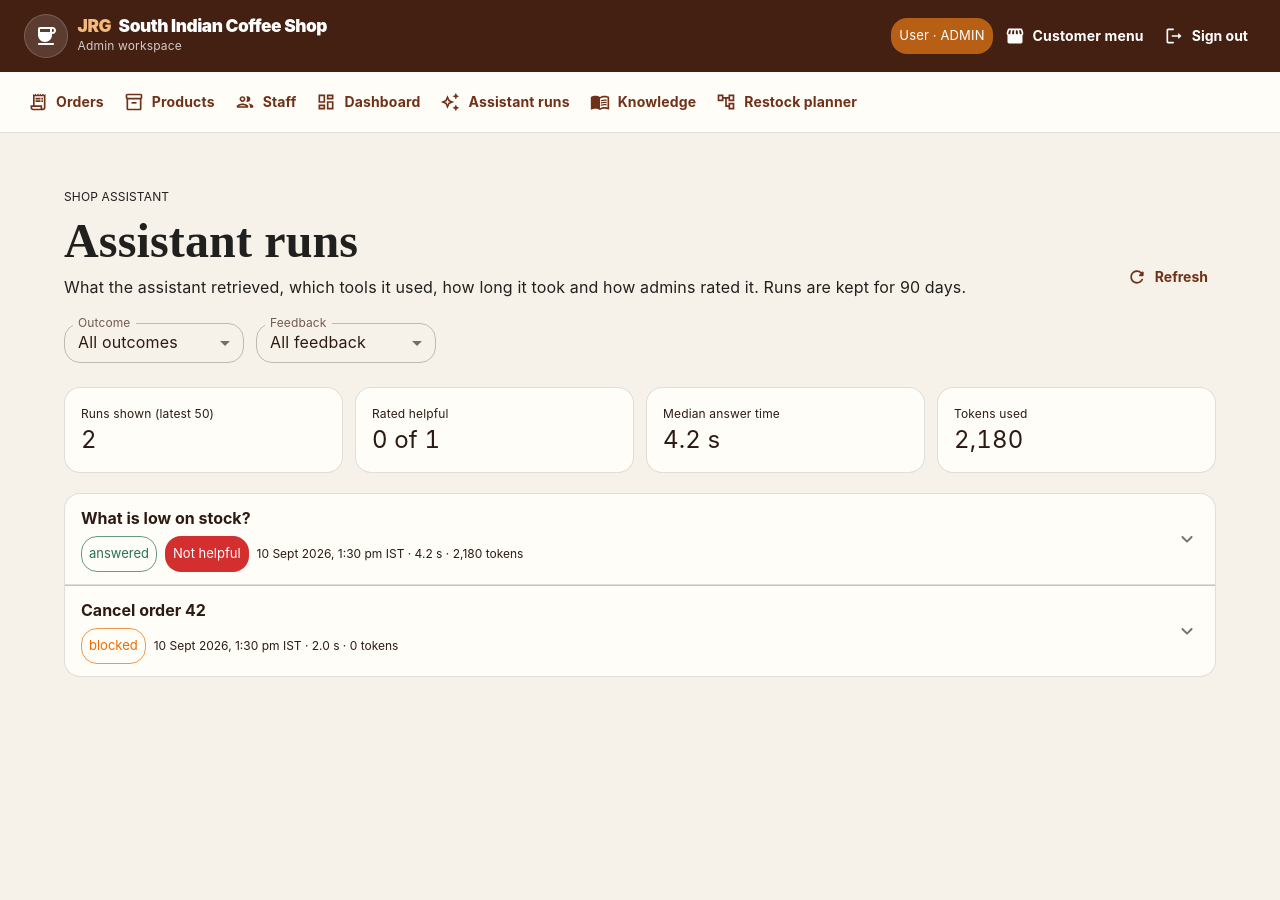
admin assistant run log › filters by feedback on the server
Expected: the text "Cancel order 42" is shown, x1=81 y1=600 x2=206 y2=620
Click the dropdown labelled "feedback": (318, 342) x1=270 y1=332 x2=366 y2=352
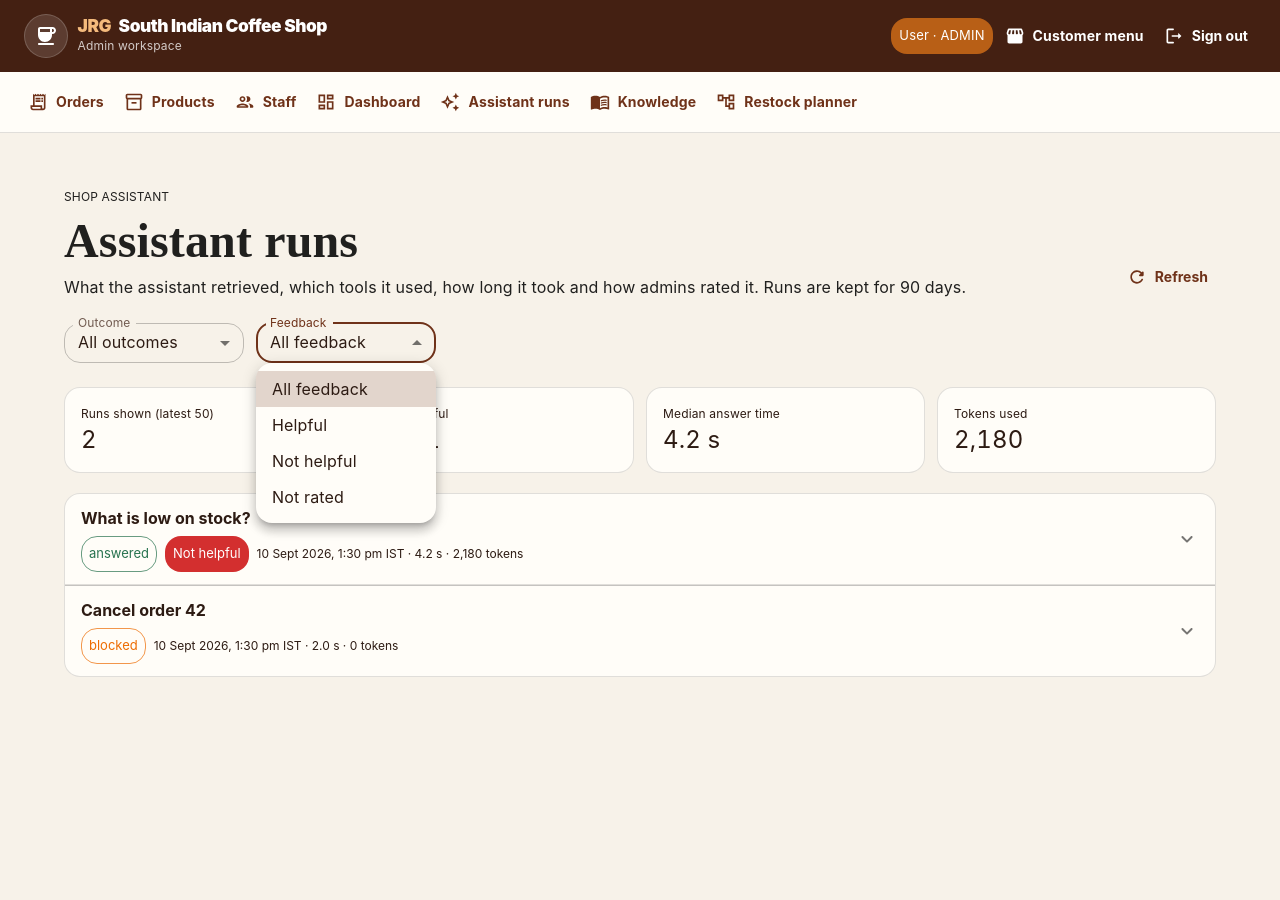
Click the option "Not helpful": (314, 461) x1=272 y1=451 x2=357 y2=471
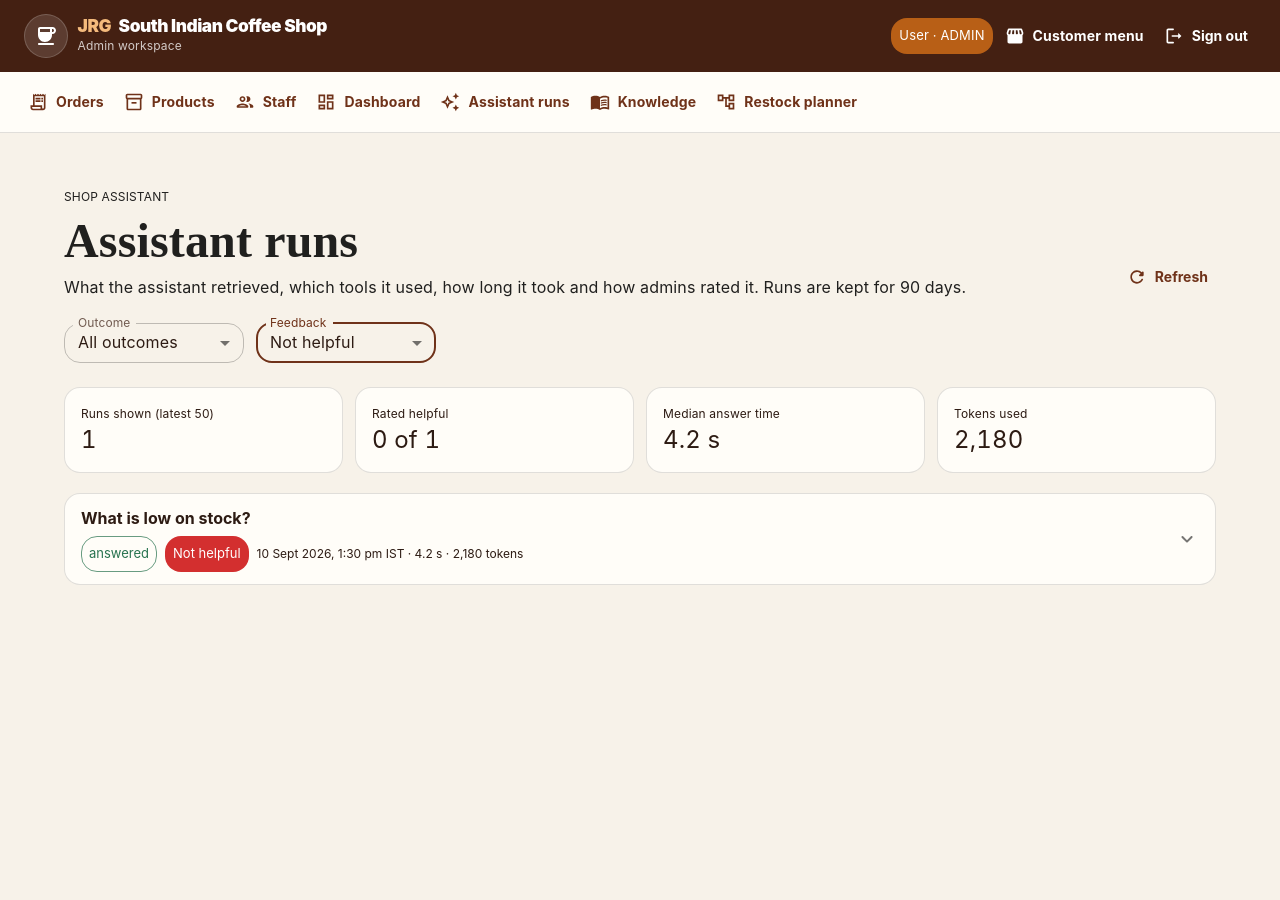
Expected: the button "Cancel order 42" is gone
